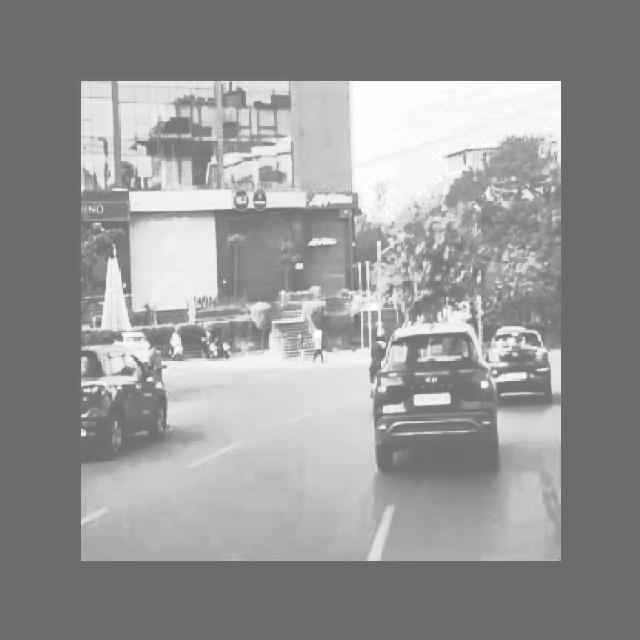Car: (363, 314, 506, 490), (77, 332, 183, 474), (488, 314, 554, 410)
